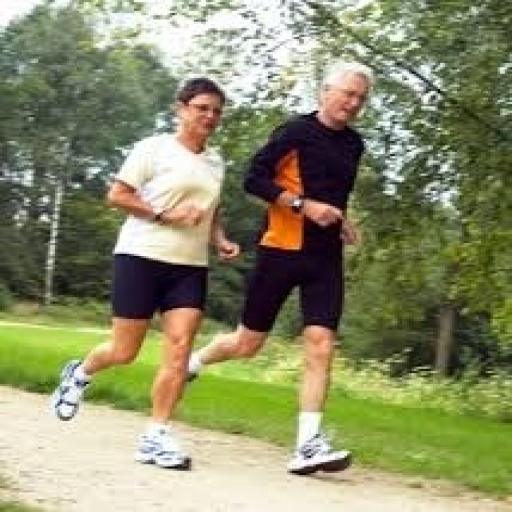running: (179, 61, 378, 477), (48, 74, 244, 473)
